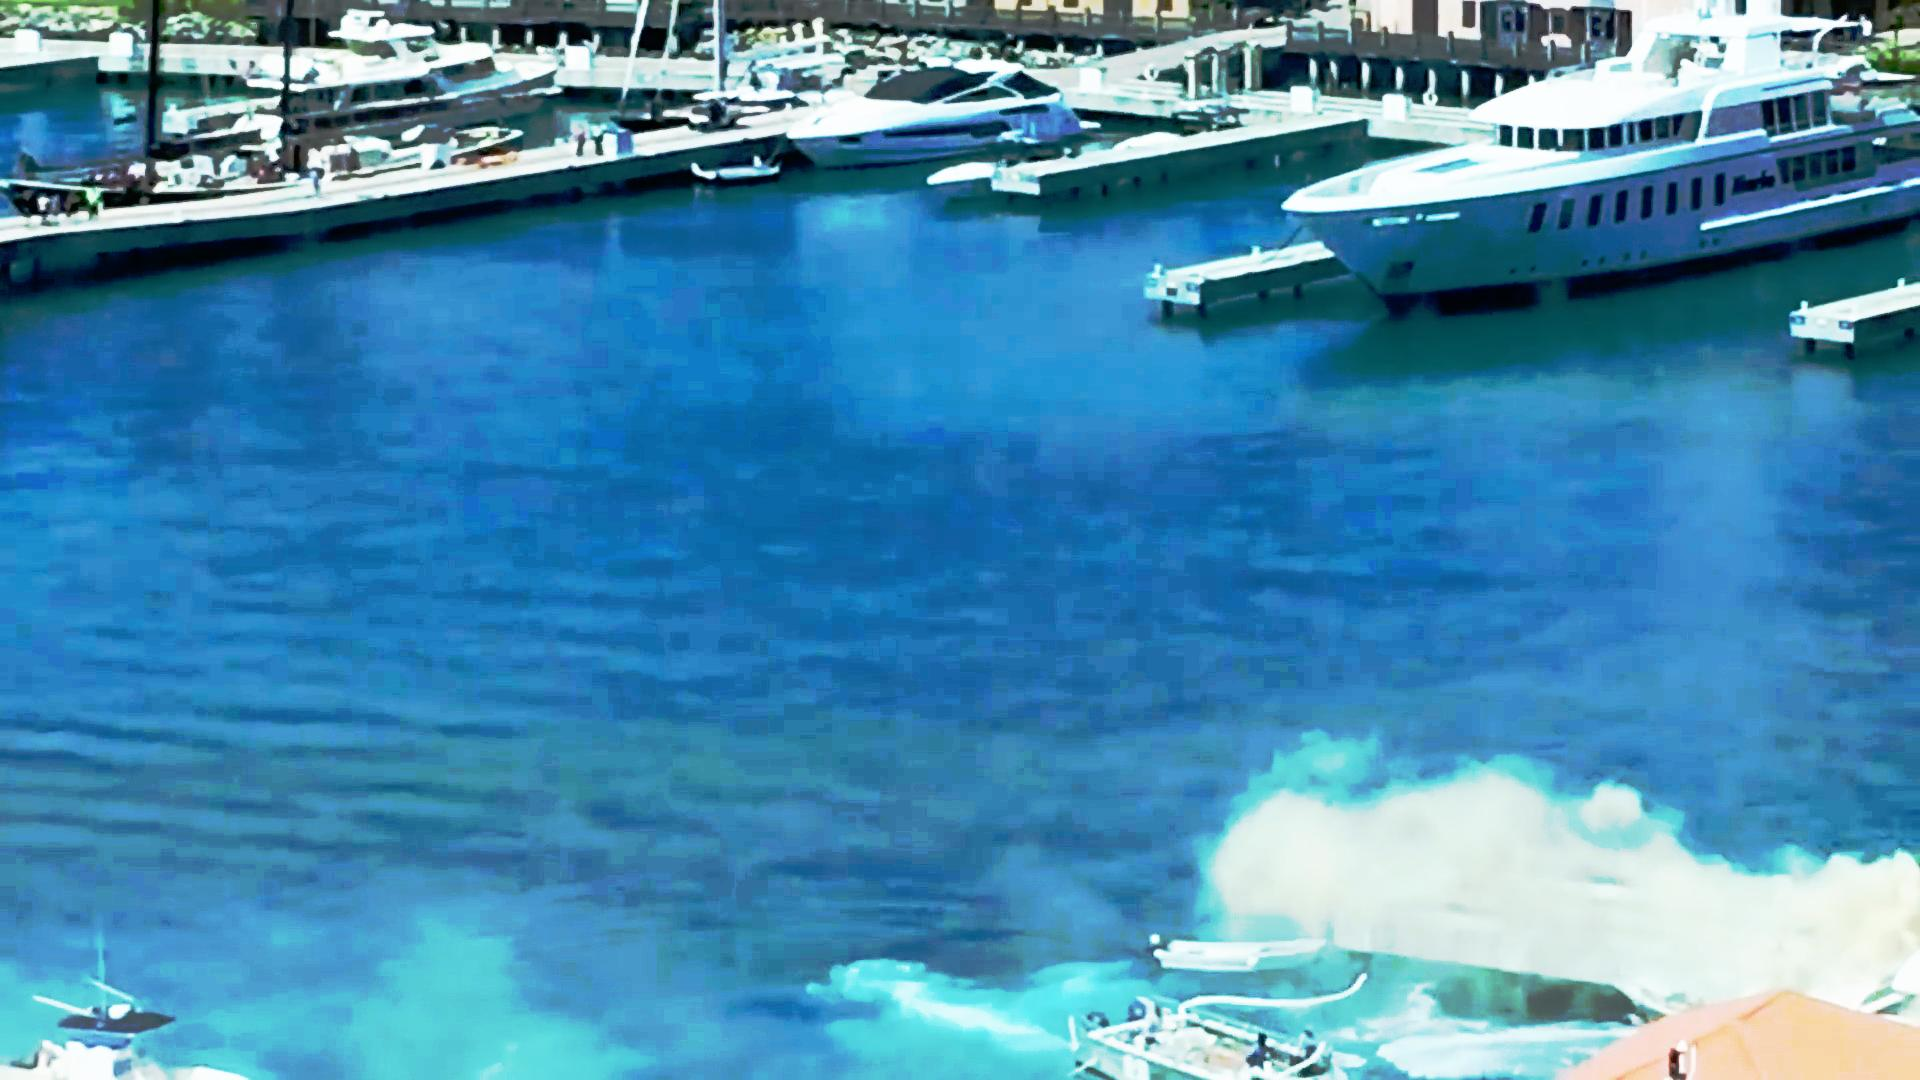smoke: (1197, 723, 1511, 928), (1536, 833, 1920, 975)
